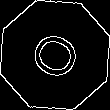O_SE: (23, 25, 87, 85)
